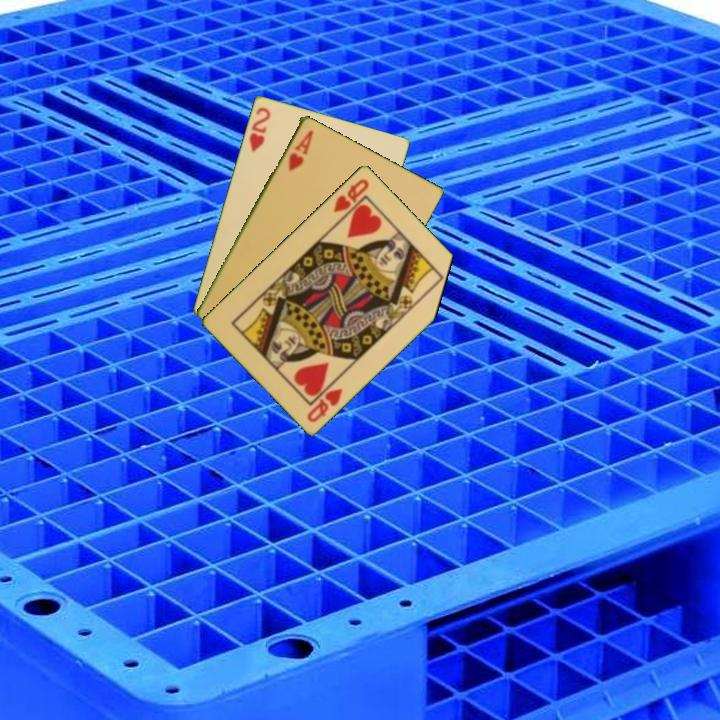2h: (245, 103, 273, 155)
Ah: (285, 126, 316, 174)
Qh: (303, 384, 345, 425), (329, 175, 372, 215)
